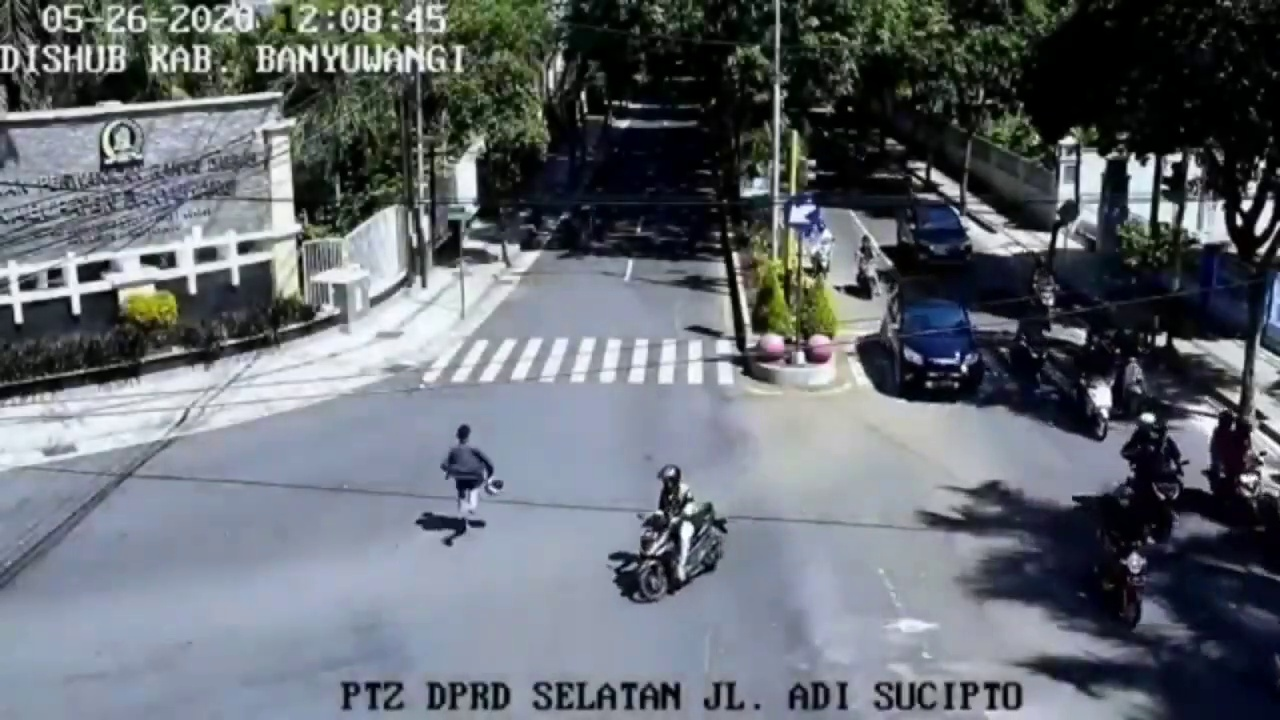car: (878, 287, 982, 407), (898, 197, 978, 270)
motorbike: (629, 462, 725, 601), (1091, 488, 1152, 642), (1132, 408, 1182, 547), (1202, 411, 1257, 529), (1074, 333, 1114, 443), (1009, 304, 1048, 395), (1033, 254, 1058, 317), (809, 219, 833, 281), (855, 234, 877, 299)
